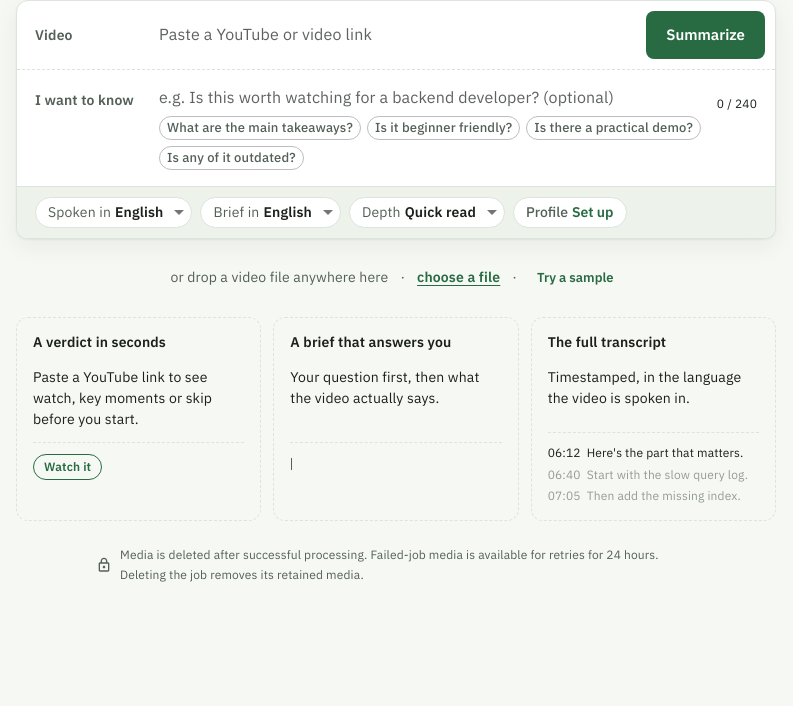
Test: Summary workflow › shows the provisional verdict and a brief estimate beside the preview
In the field labelled "Video": (397, 35) [159,19,634,51], type "https://youtu.be/-xbzGngfQEw"
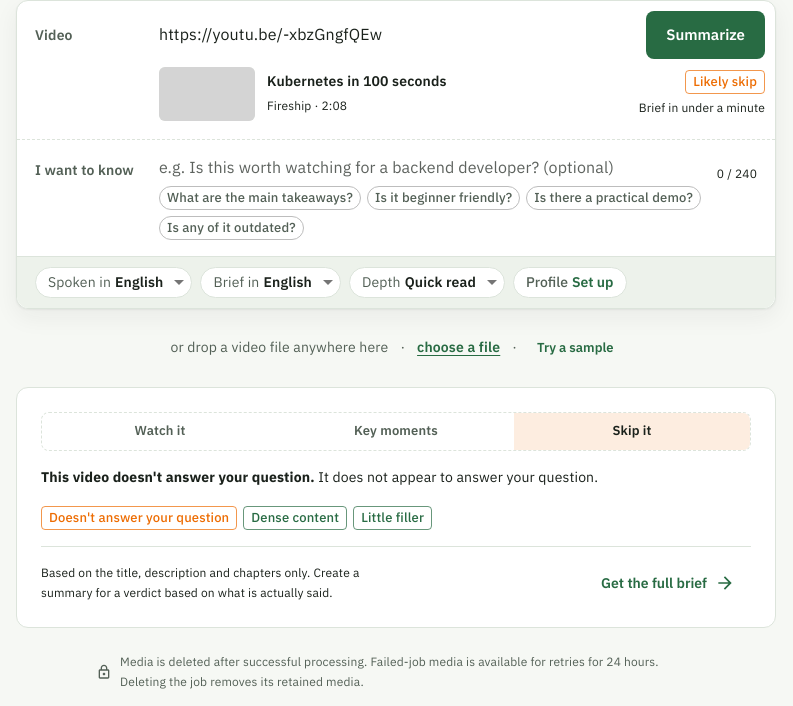
expect the element named "Video preview" shows "Brief in under a minute": met, box [639,100,765,115]
expect the element named "Video preview" shows "Likely skip": met, box [693,73,757,90]
